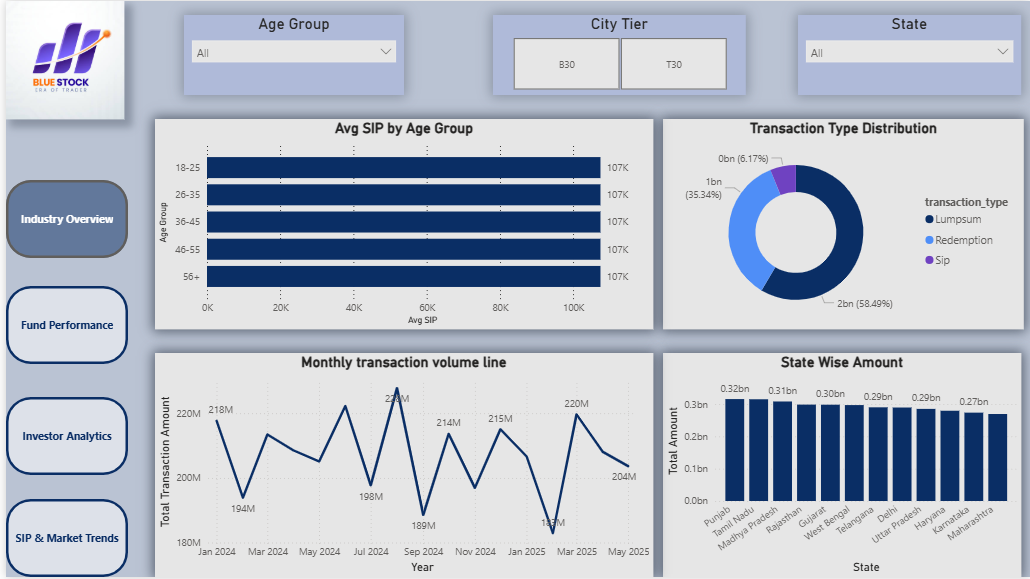

The dashboard page shown, as its layout file describes it:
{"tool":"powerbi","page":{"name":"Investor Analytics","canvas":[1280,720],"ordinal":2},"visuals":[{"type":"columnChart","title":"State Wise Amount","fields":{"Category":["clean_transactions.state"],"Y":["Sum(clean_transactions.amount_inr)"]},"box":[821.2,440,447.5,280],"z":0},{"type":"donutChart","title":"Transaction Type Distribution","fields":{"Category":["clean_transactions.transaction_type"],"Y":["Sum(clean_transactions.amount_inr)"]},"box":[821.2,147.5,451.2,262.5],"z":1000},{"type":"barChart","fields":{"Category":["clean_transactions.age_group"],"Y":["01_fund_master.Avg SIP"]},"box":[186.2,147.5,622.5,262.5],"z":2000},{"type":"lineChart","title":"Monthly transaction volume line","fields":{"Category":["08_investor_transactions.transaction_date.Variation.Date Hierarchy.Year","08_investor_transactions.transaction_date.Variation.Date Hierarchy.Month"],"Y":["Sum(08_investor_transactions.amount_inr)"]},"box":[186.2,440,622.5,280],"z":3000},{"type":"slicer","title":"City Tier","fields":{"Values":["08_investor_transactions.city_tier"]},"box":[608.8,17.5,316.2,100],"z":4000},{"type":"slicer","title":"Age Group","fields":{"Values":["08_investor_transactions.age_group"]},"box":[222.5,17.5,275,100],"z":5000},{"type":"slicer","title":"State","fields":{"Values":["08_investor_transactions.state"]},"box":[990,17.5,278.8,100],"z":6000},{"type":"image","box":[0,0,147.5,147.5],"z":7000},{"type":"actionButton","title":"Home","box":[0,223.8,152.5,97.5],"z":8000},{"type":"actionButton","box":[0,356.2,152.5,97.5],"z":8001},{"type":"actionButton","box":[0,495,152.5,97.5],"z":8002},{"type":"actionButton","box":[0,622.5,152.5,97.5],"z":8003}]}

Visuals, with their boxes in screenshot pixels (x1, y1, x2, y2), scaled from the page's 1280x720 canvas onto the 1030x579 screenshot:
"State Wise Amount" columnChart: [left=661, top=354, right=1021, bottom=578]
"Transaction Type Distribution" donutChart: [left=661, top=119, right=1024, bottom=330]
barChart - clean_transactions.age_group x 01_fund_master.Avg SIP: [left=150, top=119, right=651, bottom=330]
"Monthly transaction volume line" lineChart: [left=150, top=354, right=651, bottom=578]
"City Tier" slicer: [left=490, top=14, right=744, bottom=94]
"Age Group" slicer: [left=179, top=14, right=400, bottom=94]
"State" slicer: [left=797, top=14, right=1021, bottom=94]
image: [left=0, top=0, right=119, bottom=119]
"Home" actionButton: [left=0, top=180, right=123, bottom=258]
actionButton: [left=0, top=286, right=123, bottom=365]
actionButton: [left=0, top=398, right=123, bottom=476]
actionButton: [left=0, top=501, right=123, bottom=578]
